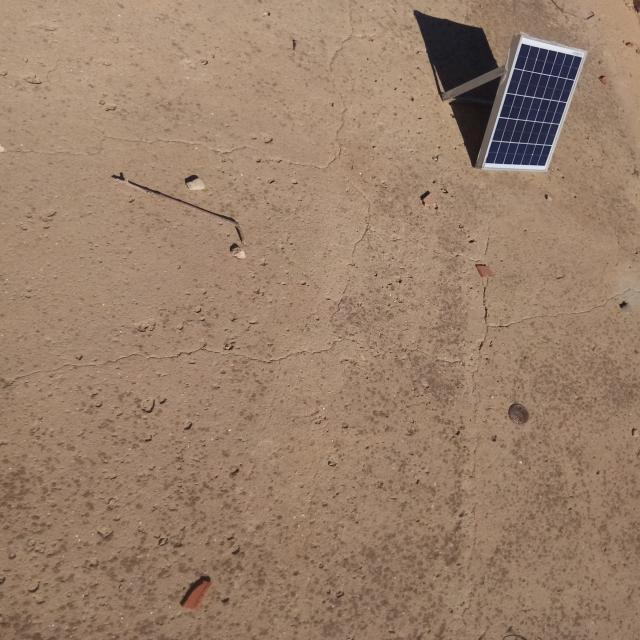no faulty: (482, 35, 588, 171)
